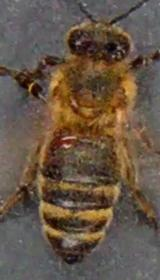varroa_mite: (43, 130, 86, 156)
